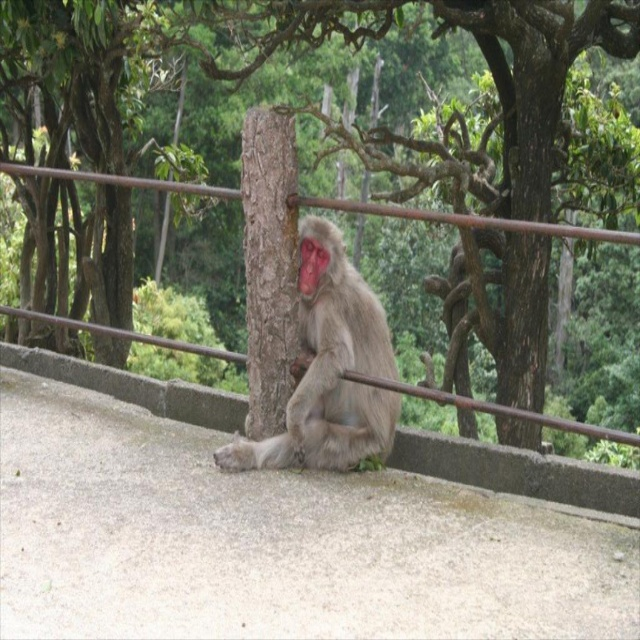Monkey: (214, 215, 404, 472)
